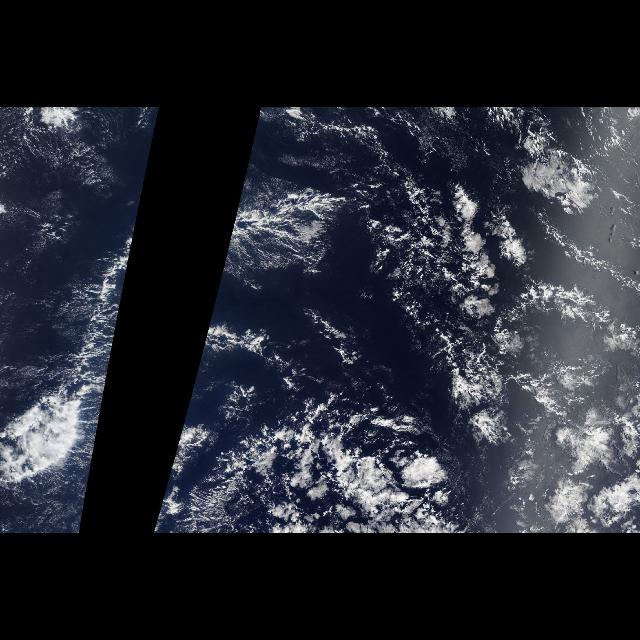Fish: (3, 183, 146, 525), (202, 369, 500, 526), (218, 170, 358, 288)
Flower: (369, 189, 639, 533)
